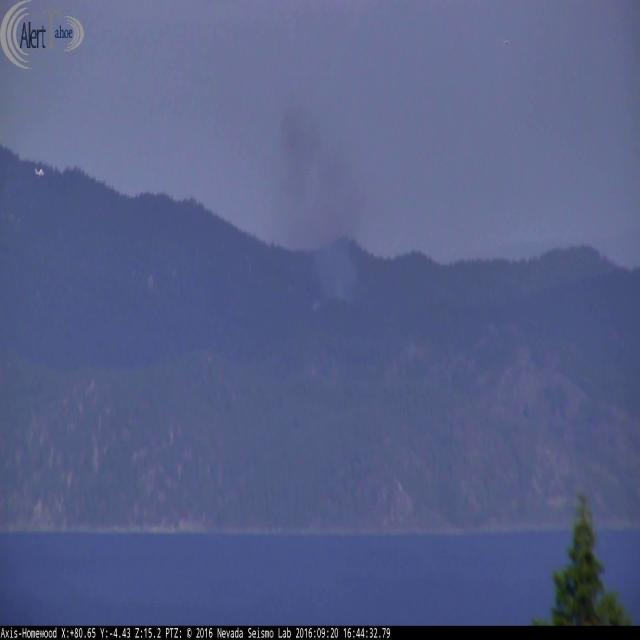smoke: (266, 83, 375, 331)
